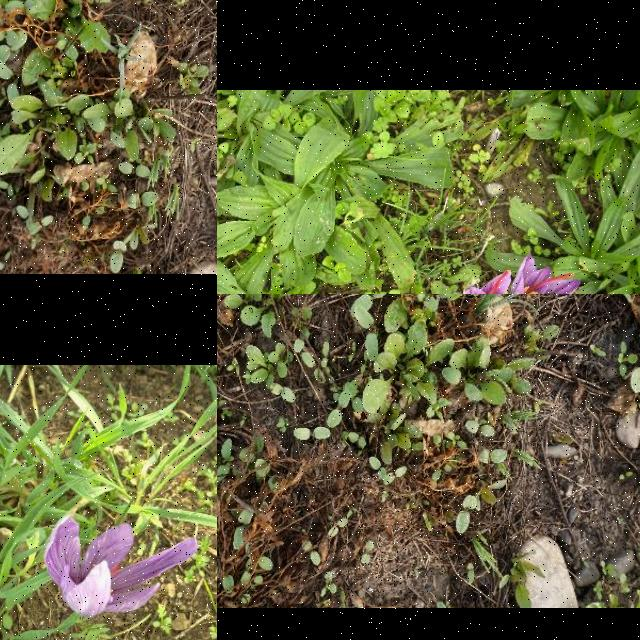flower: (46, 520, 198, 620), (513, 253, 580, 294), (449, 269, 512, 294)
